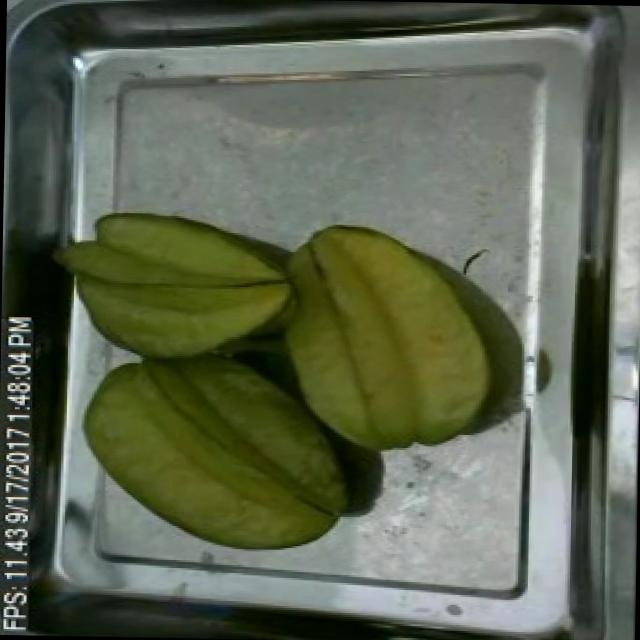fruit: (68, 340, 370, 565), (262, 211, 512, 465), (56, 196, 310, 376)
